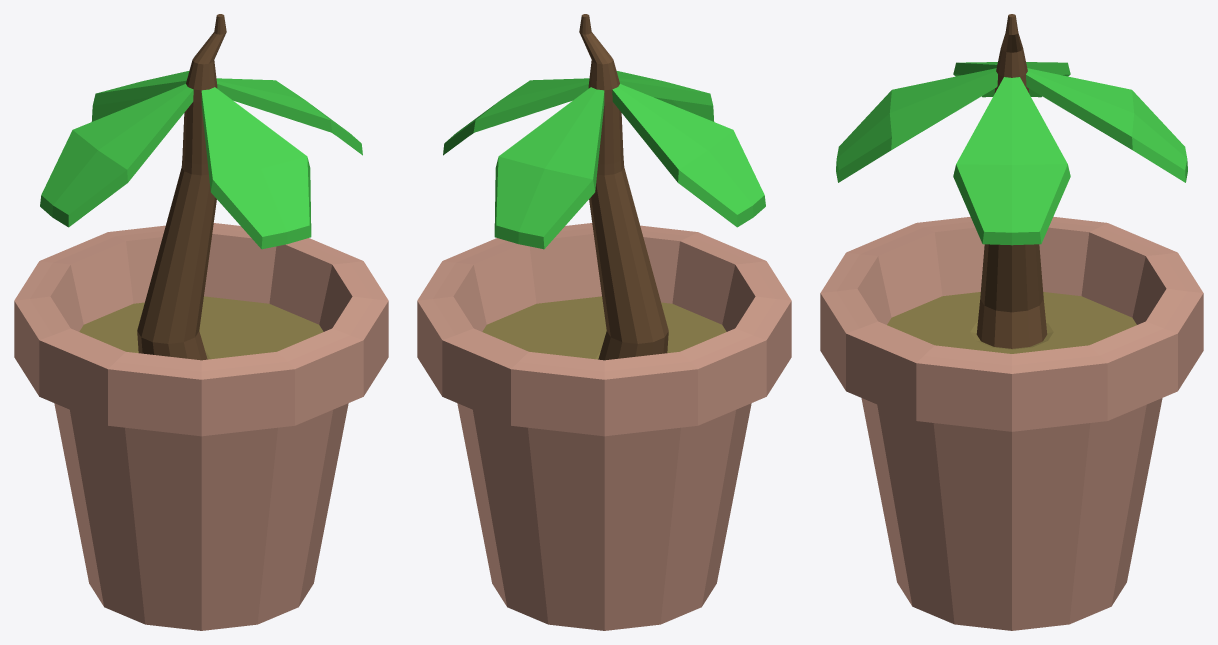
The model's file is Pot Plant.fbx.
3 renders of one model, left to right at view 1: azimuth 30°, elevation 25°; view 2: azimuth 150°, elevation 25°; view 3: azimuth 270°, elevation 25°, orthographic. The views are drawn at different scales.
Visible parts, largest first — view 1: Pot Plant, Plant; view 2: Pot Plant, Plant; view 3: Pot Plant, Plant.
Boxes of the visible parts, left/top/right/bottom form: Pot Plant: left=14, top=223, right=388, bottom=630; Plant: left=40, top=14, right=362, bottom=360; Pot Plant: left=417, top=223, right=791, bottom=630; Plant: left=443, top=14, right=765, bottom=360; Pot Plant: left=820, top=216, right=1203, bottom=630; Plant: left=836, top=14, right=1187, bottom=348.
Bounding box in the file's own units: 720 × 1195 × 720.
